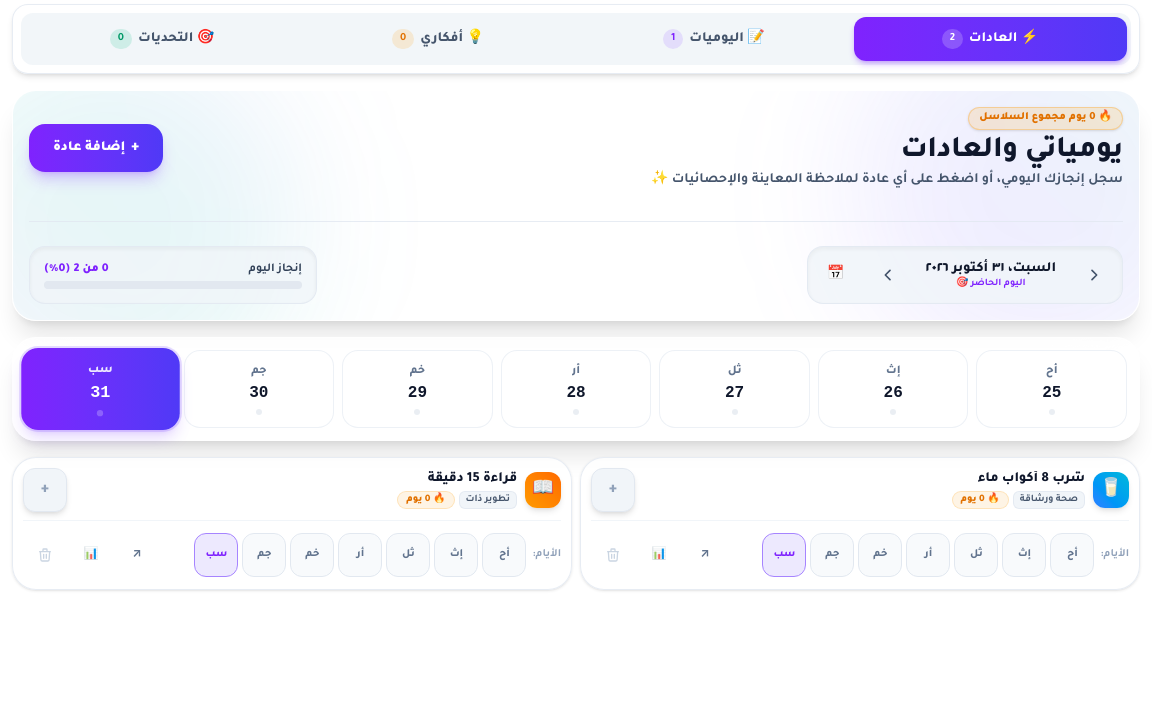
Test case: DailyRoutines.vue Component Tests › updates progress bar and streak counter upon habit check-in
Note: Toggle check-in on first habit
Click the button titled "تسجيل الإنجاز" in the row of "شرب 8 أكواب ماء".
click(613, 490)  # box left=591, top=468, right=635, bottom=512
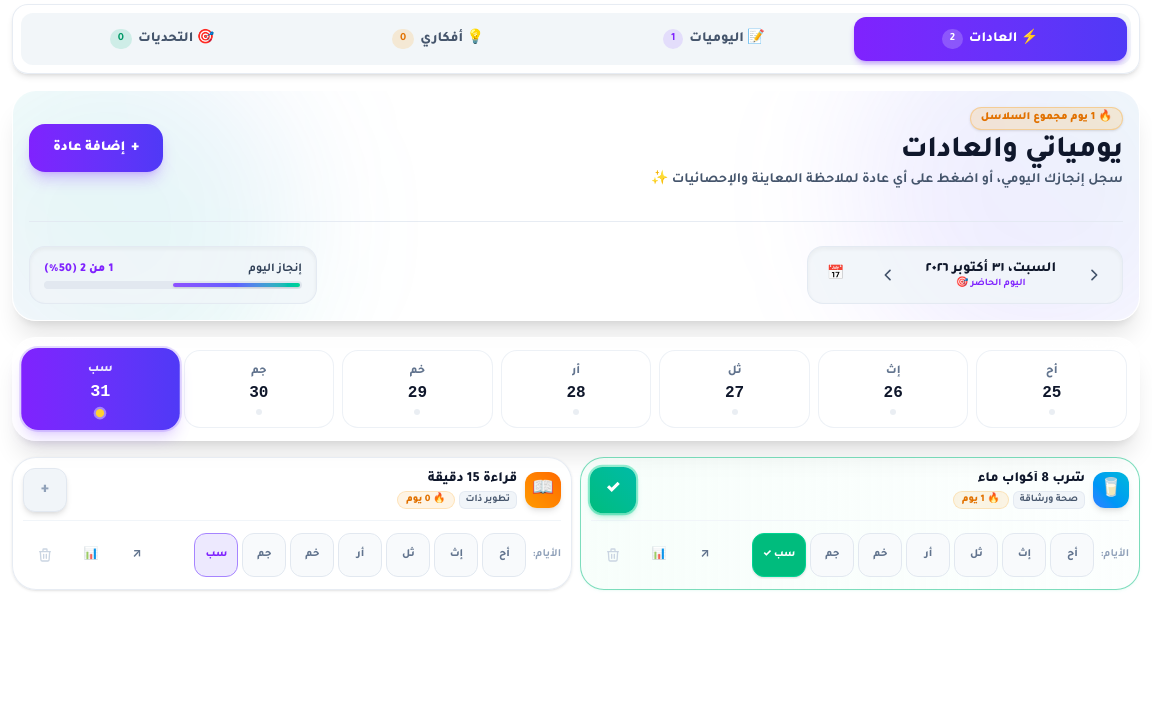
Check: the text "1 من 2 (50%)" is shown, box left=44, top=261, right=114, bottom=277
